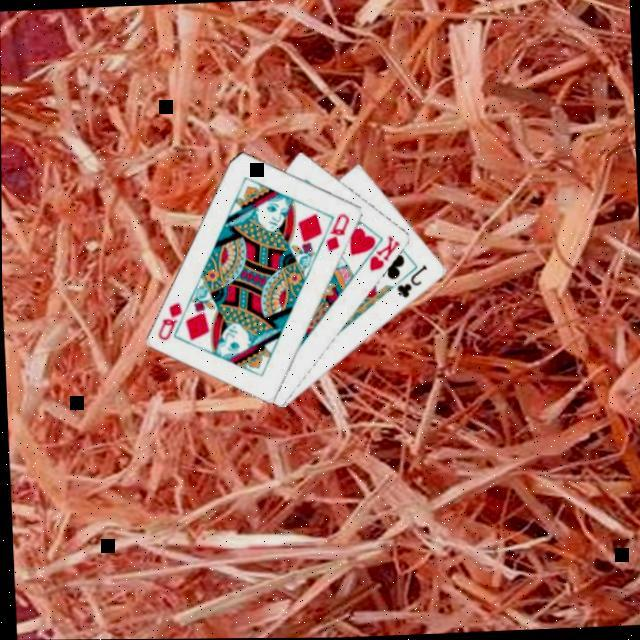JC: (390, 260, 429, 300)
KH: (362, 232, 402, 274)
QD: (150, 297, 184, 342), (318, 209, 351, 254)
